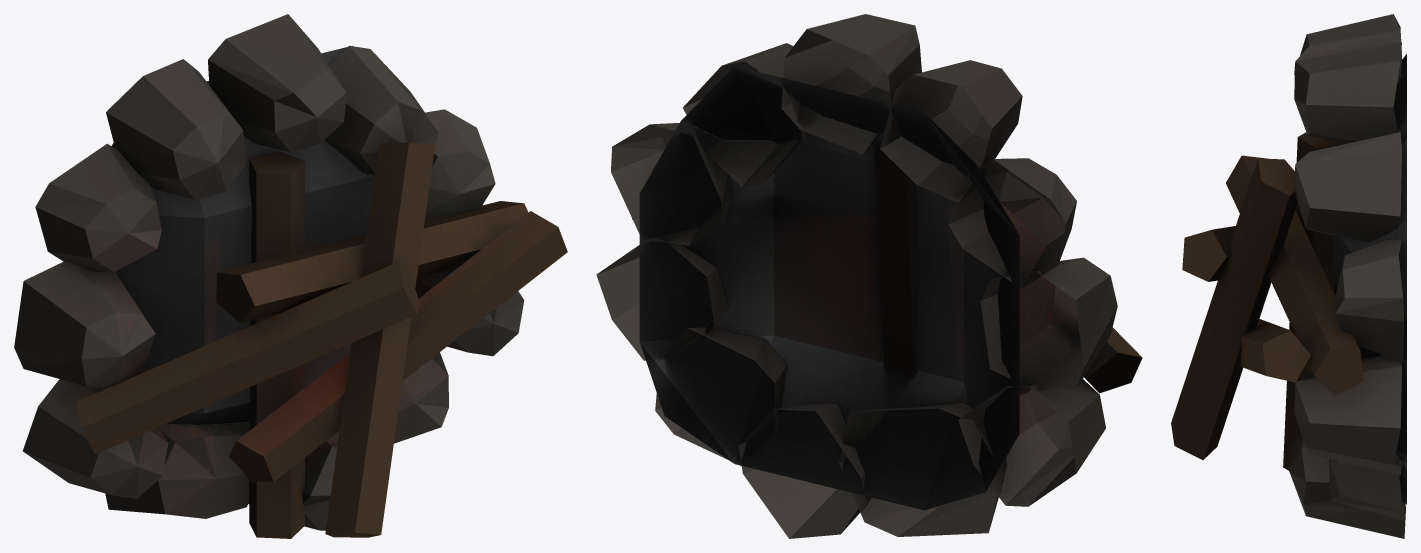
File: camp_fire.dae
3 views of the same model, side by side, from view 1: azimuth 30°, elevation 25°; view 2: azimuth 150°, elevation 25°; view 3: azimuth 270°, elevation 25° (orthographic). The views are drawn at different scales.
Parts seen in each view (by area): view 1: node; view 2: node; view 3: node.
Boxes of the visible parts, x1=… form: node: x1=14, y1=14, x2=567, y2=538; node: x1=596, y1=14, x2=1142, y2=538; node: x1=1171, y1=14, x2=1406, y2=538.
Size of the model in its own units: 321 by 322 by 146.
1 material, 1 textured.
